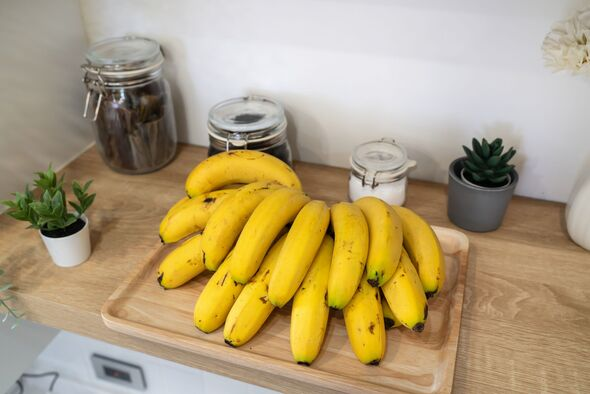banana: (160, 147, 449, 371)
